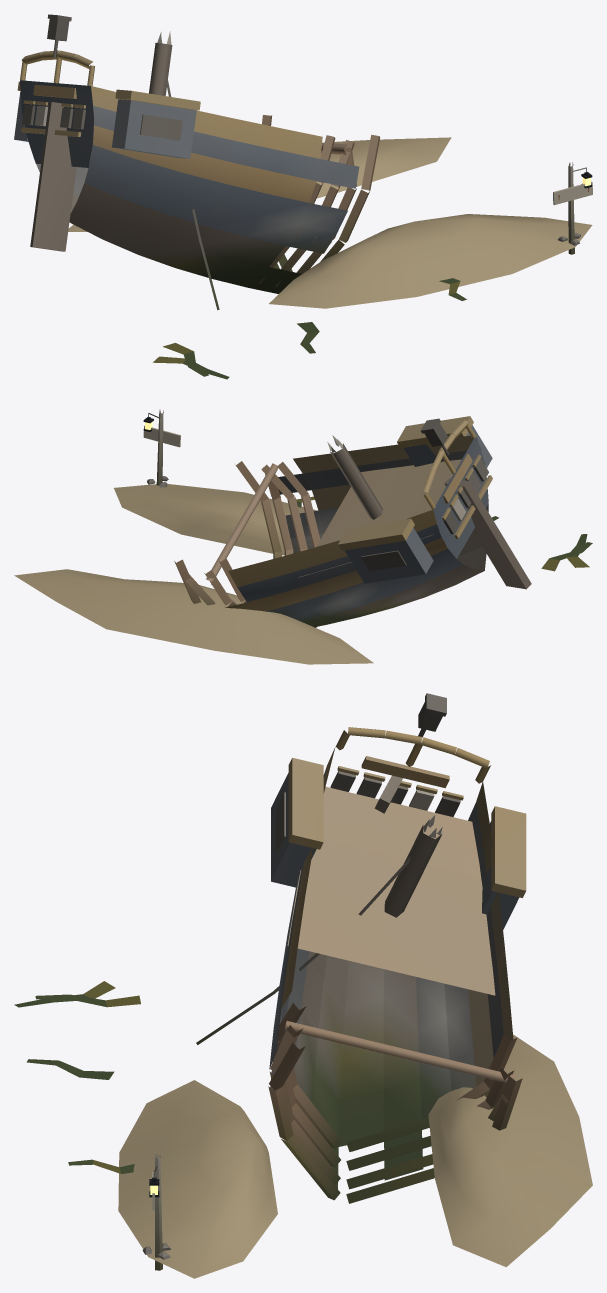
Rendered from wreck_stern_section.glb.
The picture shows the model from 3 angles, top to bottom: view 1: azimuth 30°, elevation 25°; view 2: azimuth 150°, elevation 25°; view 3: azimuth 270°, elevation 25°; orthographic projection. The views are drawn at different scales.
Parts seen in each view (by area): view 1: hull, epitaph; view 2: hull, epitaph; view 3: hull, epitaph.
Boxes of the visible parts, x1,y1,x2,y2 form: hull: (14, 14, 592, 379); epitaph: (553, 162, 592, 254); hull: (14, 416, 592, 664); epitaph: (143, 409, 180, 487); hull: (14, 693, 592, 1278); epitaph: (142, 1153, 170, 1270).
Bounding box in the file's own units: 14.33 × 8.29 × 11.32.
